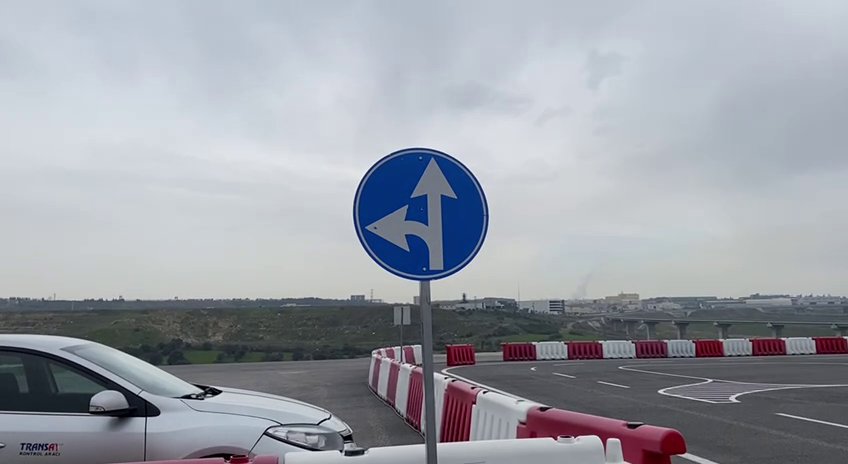forwardAndLeft: (348, 143, 492, 283)
